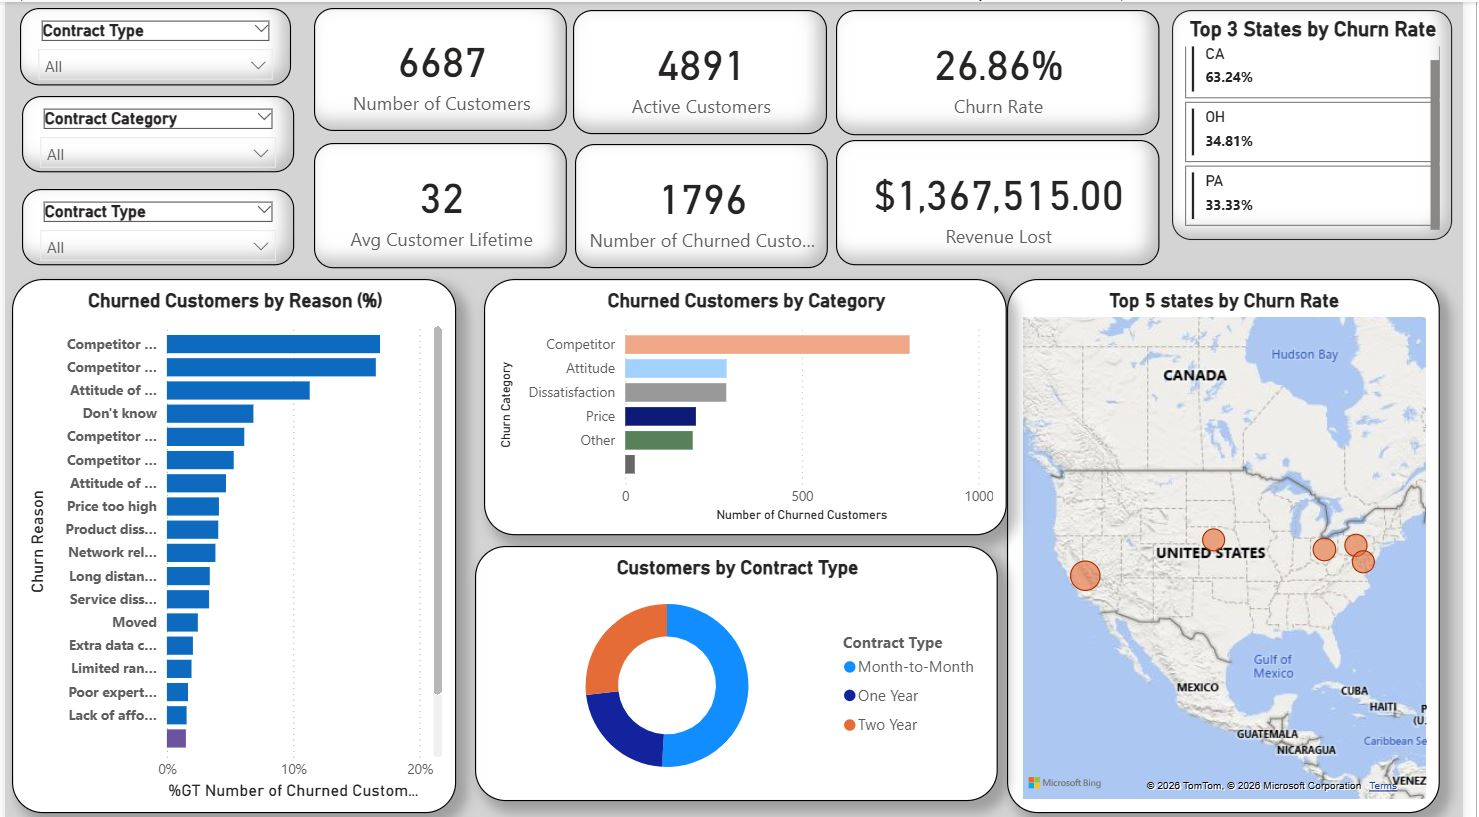

The page's visual inventory and layout, read from the dashboard file:
{"tool":"powerbi","page":{"name":"Executive Overview  ","canvas":[1280,720],"ordinal":0},"visuals":[{"type":"map","title":"Top 5 states by Churn Rate","fields":{"Category":["Databel - Data.State or Province"],"Size":["measure table.Churn Rate"]},"box":[880.2,243.6,379.6,468.7],"z":0},{"type":"barChart","title":"Churned Customers by Category","fields":{"Y":["measure table.Number of Churned Customers"],"Category":["Databel - Data.Churn Category"]},"box":[404.5,248.8,465.6,229.3],"z":1000},{"type":"card","fields":{"Values":["measure table.Number of Customers"]},"box":[271,5.6,222.4,108.4],"z":2000},{"type":"donutChart","title":"Customers by Contract Type","fields":{"Y":["CountNonNull(Databel - Data.Customer ID)"],"Series":["Databel - Data.Contract Type"]},"box":[404.8,487.1,465.3,221.7],"z":3000},{"type":"card","fields":{"Values":["measure table.Number of Churned Customers"]},"box":[500.6,124.3,221.7,109.2],"z":4000},{"type":"card","fields":{"Values":["measure table.Churn Rate"]},"box":[729.7,5.6,283.6,109.8],"z":5000},{"type":"barChart","title":"Churned Customers by Reason (%)","fields":{"Category":["Databel - Data.Churn Reason"],"Y":["Divide(measure table.Number of Churned Customers, ScopedEval(measure table.Number of Churned Customers, []))"]},"box":[15.1,243.6,379.6,475.4],"z":6000},{"type":"slicer","fields":{"Values":["Databel - Data.Contract Type"]},"box":[13.4,5,238,68],"z":9000},{"type":"card","fields":{"Values":["measure table.Avg Customer Lifetime"]},"box":[271,123.7,222.4,109.8],"z":10000},{"type":"card","fields":{"Values":["measure table.Active Customers"]},"box":[498.9,6.7,223.4,109.2],"z":11000},{"type":"multiRowCard","title":"Top 3 States by Churn Rate","fields":{"Values":["measure table.Churn Rate","Databel - Data.State"]},"box":[1020.2,5.6,244.6,225.2],"z":12000},{"type":"card","fields":{"Values":["measure table.Revenue Lost"]},"box":[729.7,120.9,283.6,109.8],"z":13000},{"type":"slicer","fields":{"Values":["Databel - Data.Contract Category"]},"box":[15.1,82.3,238.5,67.2],"z":14000},{"type":"slicer","fields":{"Values":["Databel - Data.Contract Type"]},"box":[15.1,164.6,238.5,67.2],"z":15000}]}

Visuals, with their boxes in screenshot pixels (x1, y1, x2, y2), scaled from the page's 1280x720 canvas onto the 1479x817 screenshot:
"Top 5 states by Churn Rate" map: bbox=(1017, 276, 1456, 808)
"Churned Customers by Category" barChart: bbox=(467, 282, 1005, 543)
card - measure table.Number of Customers: bbox=(313, 6, 570, 129)
"Customers by Contract Type" donutChart: bbox=(468, 553, 1005, 804)
card - measure table.Number of Churned Customers: bbox=(578, 141, 835, 265)
card - measure table.Churn Rate: bbox=(843, 6, 1171, 131)
"Churned Customers by Reason (%)" barChart: bbox=(17, 276, 456, 816)
slicer - Databel - Data.Contract Type: bbox=(15, 6, 290, 83)
card - measure table.Avg Customer Lifetime: bbox=(313, 140, 570, 265)
card - measure table.Active Customers: bbox=(576, 8, 835, 132)
"Top 3 States by Churn Rate" multiRowCard: bbox=(1179, 6, 1461, 262)
card - measure table.Revenue Lost: bbox=(843, 137, 1171, 262)
slicer - Databel - Data.Contract Category: bbox=(17, 93, 293, 170)
slicer - Databel - Data.Contract Type: bbox=(17, 187, 293, 263)
